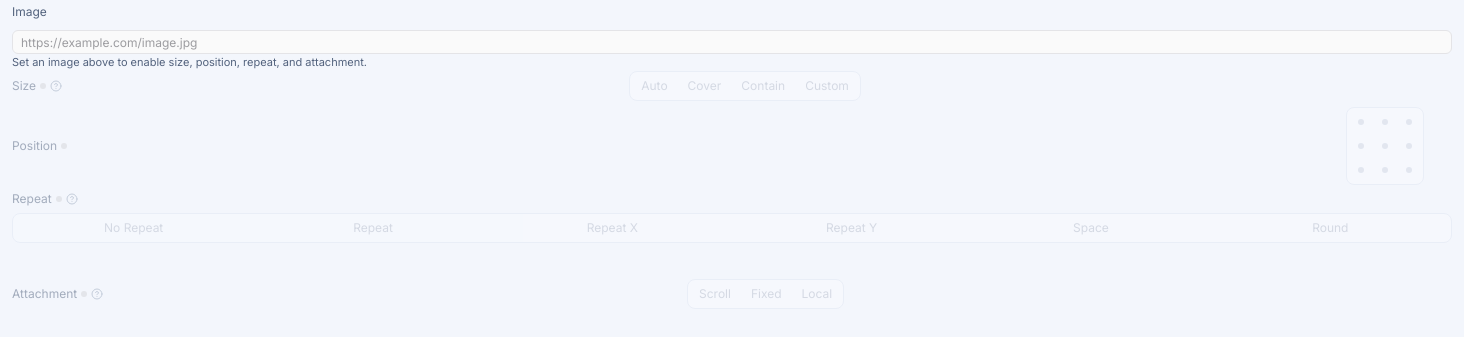
InspectorBackgroundImageControls › rejects an image URL containing whitespace with a clear validation message and does not commit
Type "not a url.jpg" into the field named "Background image URL".
click(732, 42); type("not a url.jpg")  # box x1=12 y1=30 x2=1452 y2=54
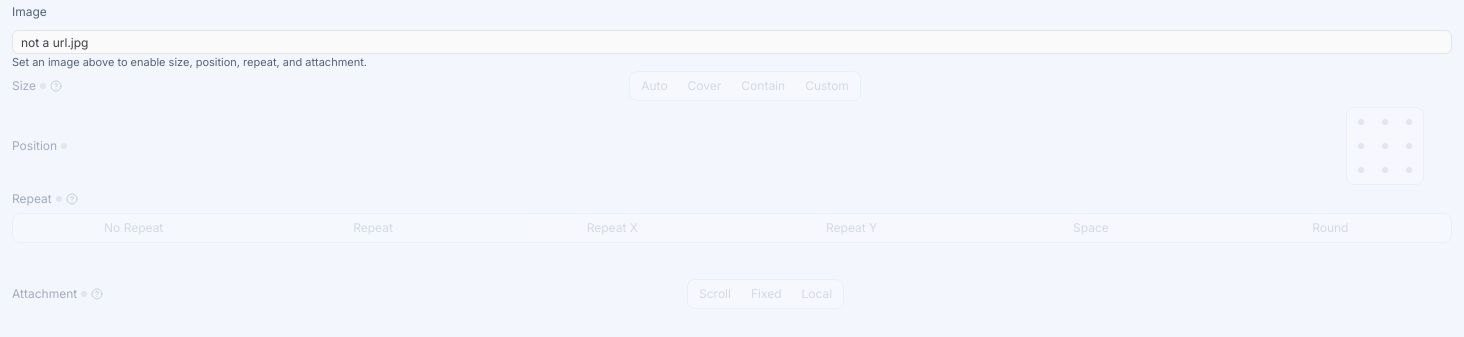
Leave the field named "Background image URL", box x1=12 y1=30 x2=1452 y2=54
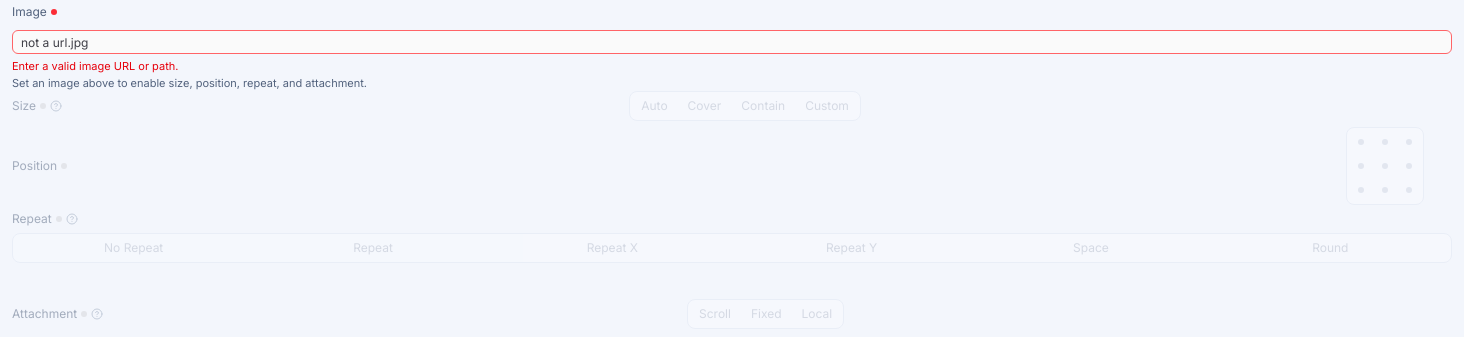
expect the message reads "Enter a valid image URL or path.": met, box x1=12 y1=59 x2=178 y2=73
